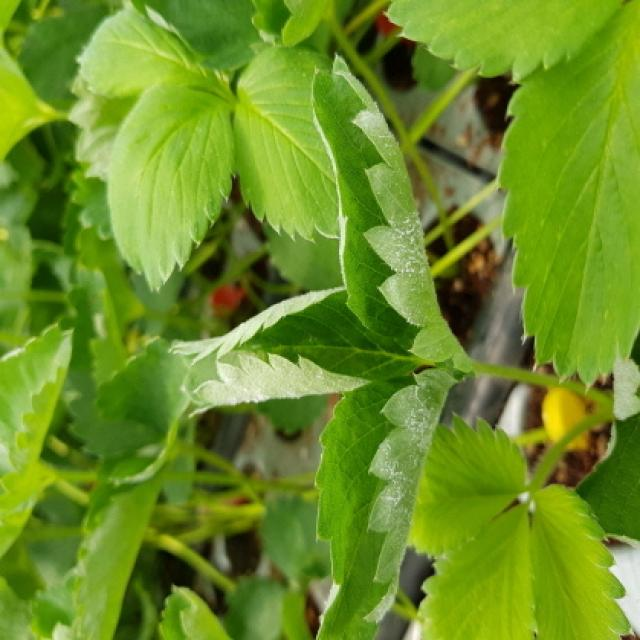Powdery Mildew Leaf: (307, 53, 474, 372), (312, 365, 468, 638), (168, 286, 431, 418)
